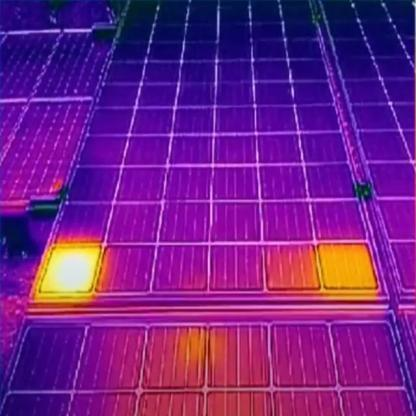anomaly: (26, 235, 108, 307), (287, 238, 381, 296)
